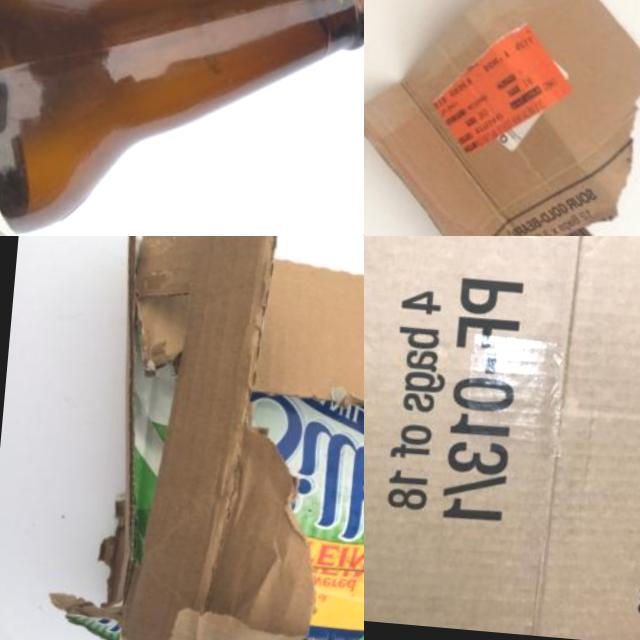garrafa de vidro: (0, 0, 364, 236)
papelão: (364, 236, 640, 640), (89, 236, 364, 640), (364, 0, 640, 236)
